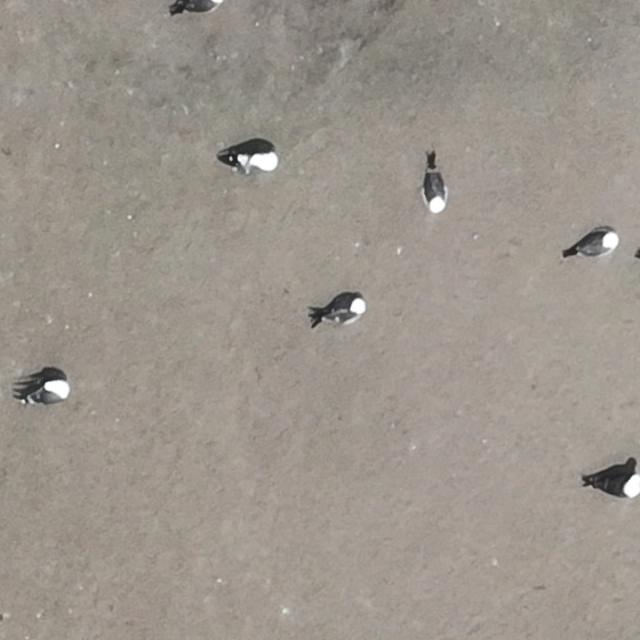umineko: (222, 146, 280, 178), (319, 295, 368, 330), (568, 228, 621, 260), (590, 472, 637, 494), (32, 383, 66, 403), (427, 176, 444, 212), (185, 0, 218, 11)
